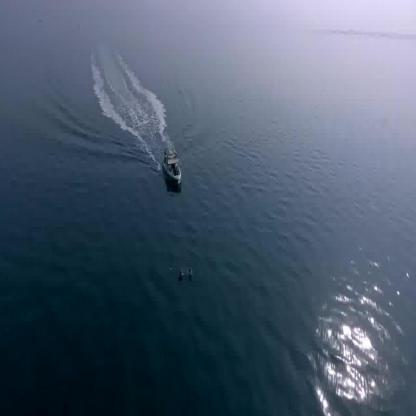Boat: (162, 145, 181, 191)
